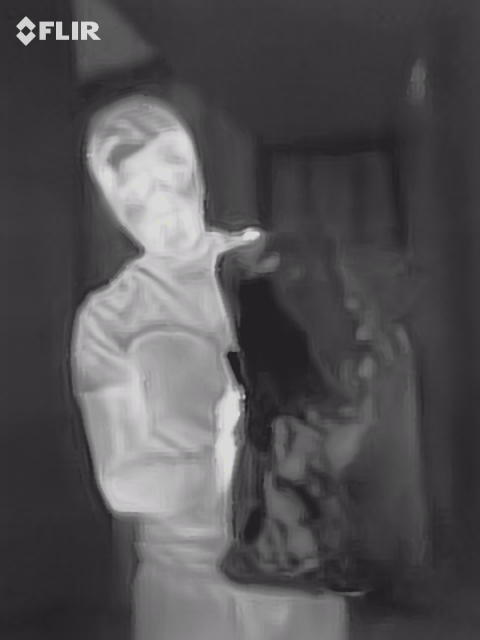head: (82, 92, 210, 246)
